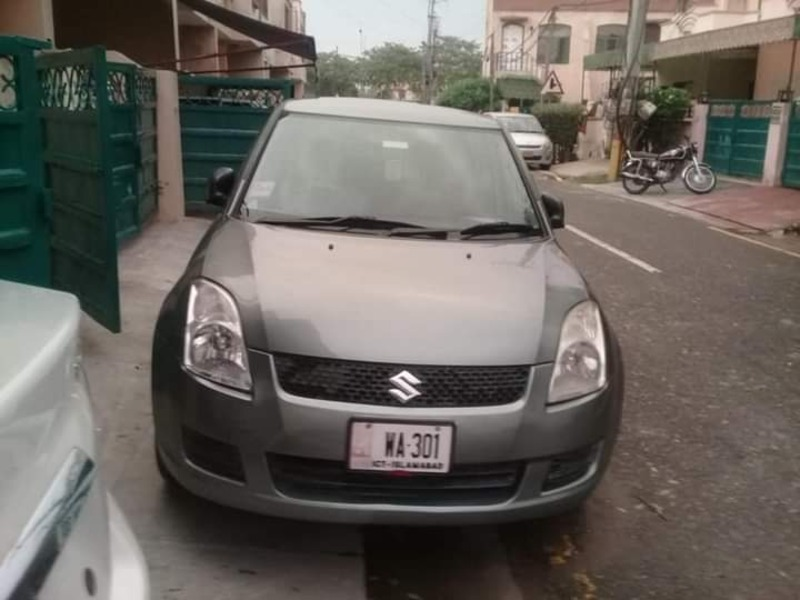License Plate: (341, 416, 456, 480)
